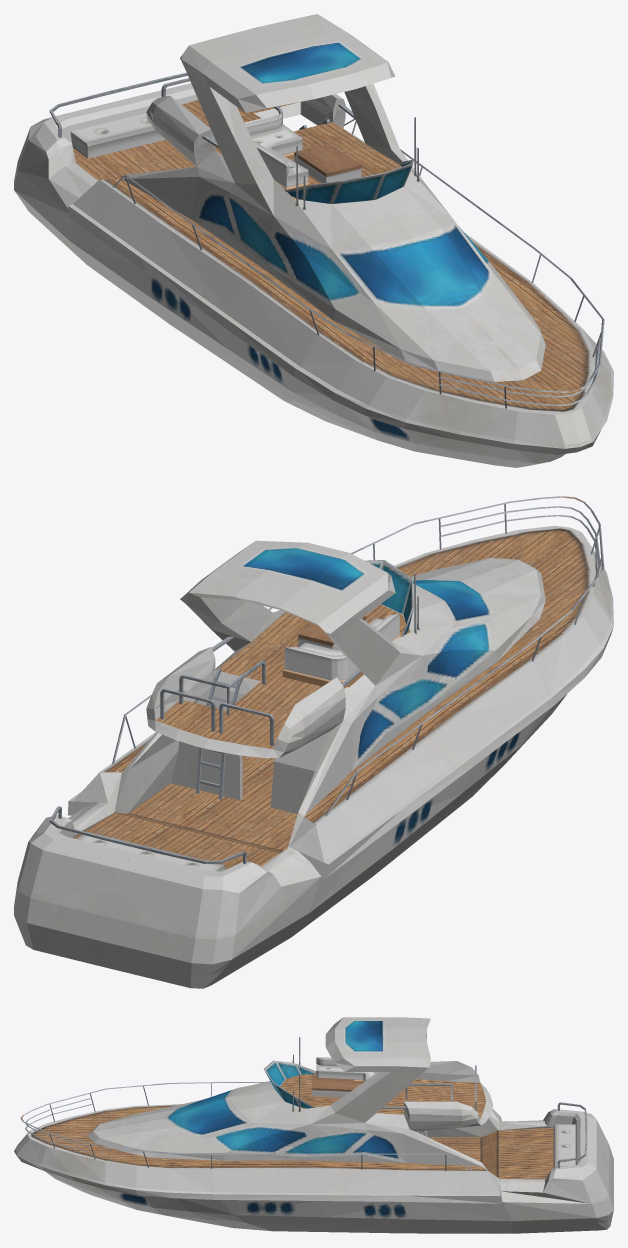
The model's file is yacht.fbx.
3 views of the same model, one above another, from view 1: azimuth 30°, elevation 25°; view 2: azimuth 150°, elevation 25°; view 3: azimuth 270°, elevation 25° (orthographic). The views are drawn at different scales.
Parts seen in each view (by area): view 1: Yacht:Mesh; view 2: Yacht:Mesh; view 3: Yacht:Mesh.
Boxes of the visible parts, box(x1,y1,x2,y2) form: Yacht:Mesh: box(14, 14, 613, 467); Yacht:Mesh: box(14, 496, 613, 988); Yacht:Mesh: box(14, 1017, 613, 1233).
Size of the model in its own units: 6.05 by 5.77 by 18.77.
Materials: 1 (1 with a texture image).
